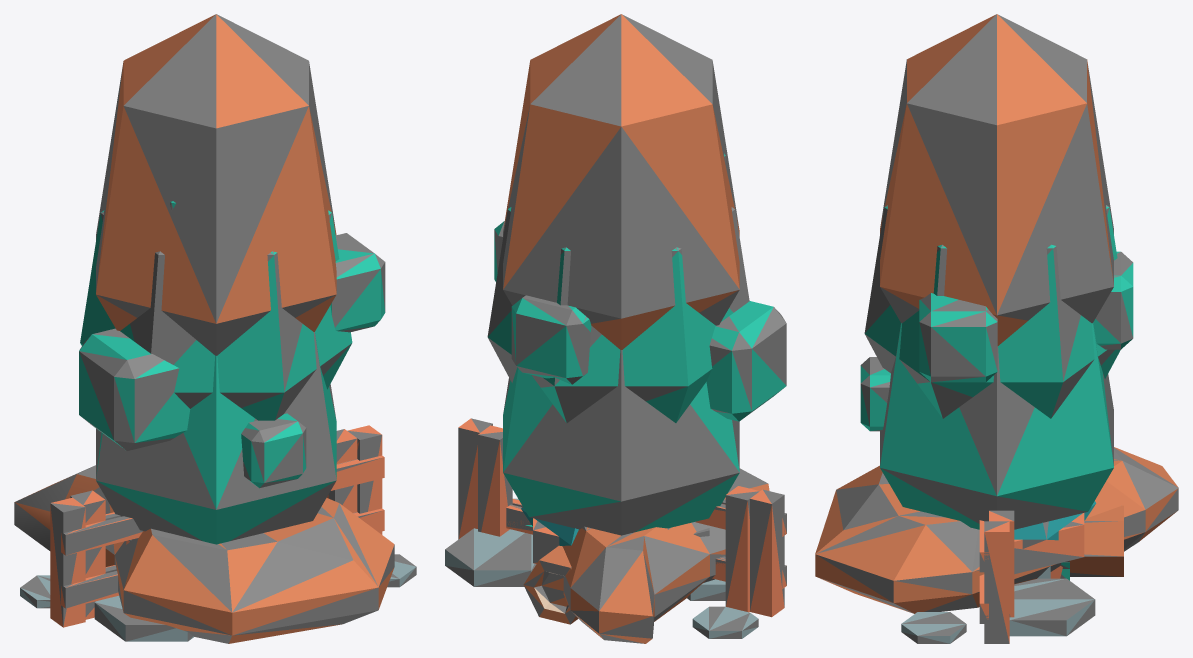
Rendered from nature.glb.
3 views of the same model, side by side, from view 1: azimuth 30°, elevation 25°; view 2: azimuth 150°, elevation 25°; view 3: azimuth 270°, elevation 25° (orthographic). The views are drawn at different scales.
Visible parts, largest first — view 1: tree_default_mesh (×14), rock_largeA_mesh (×16), tree_fat_mesh (×9), tree_oak_mesh (×9), tree_detailed_mesh (×11), fence_gate_mesh (×5), fence_planks_mesh (×3); view 2: tree_default_mesh (×15), tree_fat_mesh (×9), tree_oak_mesh (×9), rock_largeA_mesh (×12), tree_detailed_mesh (×8), fence_planks_mesh (×4), fence_simple_mesh (×4), path_stone_mesh (×4), fence_gate_mesh (×4), pot_large_mesh; view 3: tree_default_mesh (×15), tree_fat_mesh (×8), rock_largeA_mesh (×15), tree_oak_mesh (×9), tree_detailed_mesh (×3), path_stone_mesh (×4), fence_gate_mesh (×2), log_mesh (×2), pot_large_mesh (×2), fence_planks_mesh.
Boxes of the visible parts, x1,y1,x2,y2 form: tree_default_mesh (×14): (96,14,336,355); rock_largeA_mesh (×16): (14,474,394,635); tree_fat_mesh (×9): (96,332,336,544); tree_oak_mesh (×9): (80,213,352,420); tree_detailed_mesh (×11): (79,269,380,482); fence_gate_mesh (×5): (50,435,381,627); fence_planks_mesh (×3): (65,457,384,608); tree_default_mesh (×15): (503,14,739,349); tree_fat_mesh (×9): (503,350,739,535); tree_oak_mesh (×9): (487,209,749,422); rock_largeA_mesh (×12): (562,522,725,638); tree_detailed_mesh (×8): (516,301,786,413); fence_planks_mesh (×4): (478,434,747,611); fence_simple_mesh (×4): (458,428,771,617); path_stone_mesh (×4): (445,528,531,586); fence_gate_mesh (×4): (458,428,783,616); pot_large_mesh: (533,530,562,562); tree_default_mesh (×15): (880,14,1113,345); tree_fat_mesh (×8): (880,323,1113,529); rock_largeA_mesh (×15): (815,461,1178,613); tree_oak_mesh (×9): (864,207,1117,418); tree_detailed_mesh (×3): (931,292,1120,376); path_stone_mesh (×4): (1009,578,1094,636); fence_gate_mesh (×2): (984,532,1009,643); log_mesh (×2): (1069,521,1123,576); pot_large_mesh (×2): (1014,525,1084,574); fence_planks_mesh: (1009,521,1014,617).
Size of what is drawn, in the model's own units: 10 by 17.08 by 10.15.
